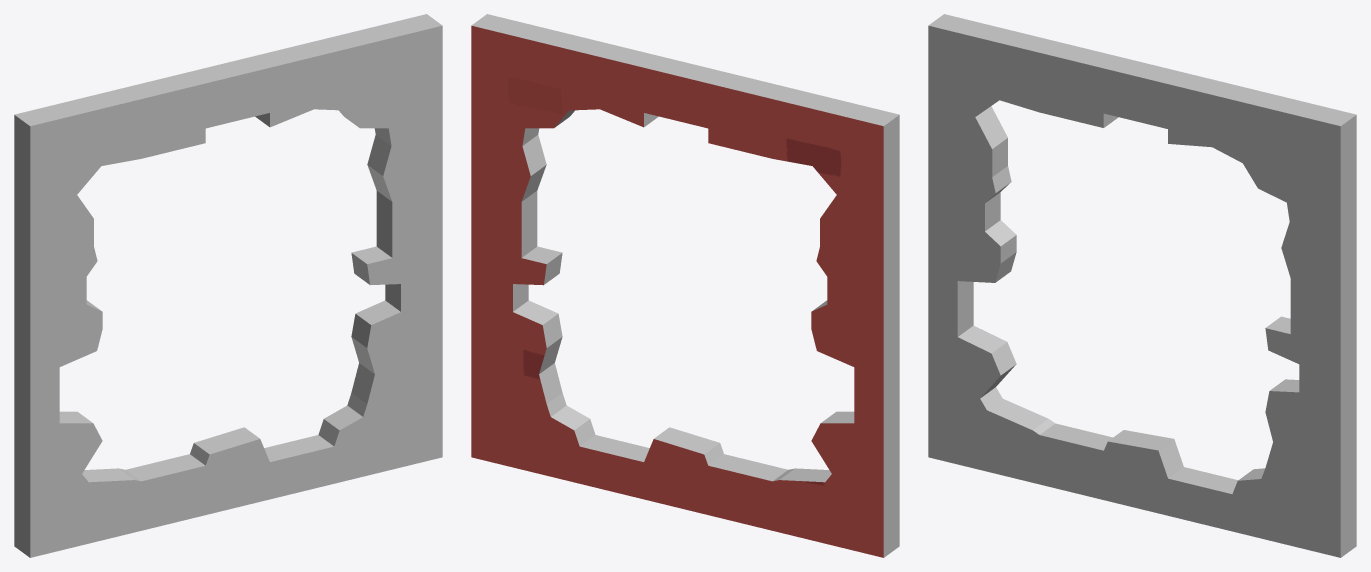
File: Wh_Brick_Wall_Damaged.fbx
3 views of the same model, side by side, from view 1: azimuth 30°, elevation 25°; view 2: azimuth 150°, elevation 25°; view 3: azimuth 330°, elevation 25° (orthographic).
Visible parts, largest first — view 1: Cube.011; view 2: Cube.011; view 3: Cube.011.
Boxes of the visible parts, bbox=[...] form: Cube.011: bbox=[14, 14, 442, 557]; Cube.011: bbox=[471, 14, 899, 557]; Cube.011: bbox=[928, 14, 1356, 557].
Bounding box in the file's own units: 300 × 300 × 20.
